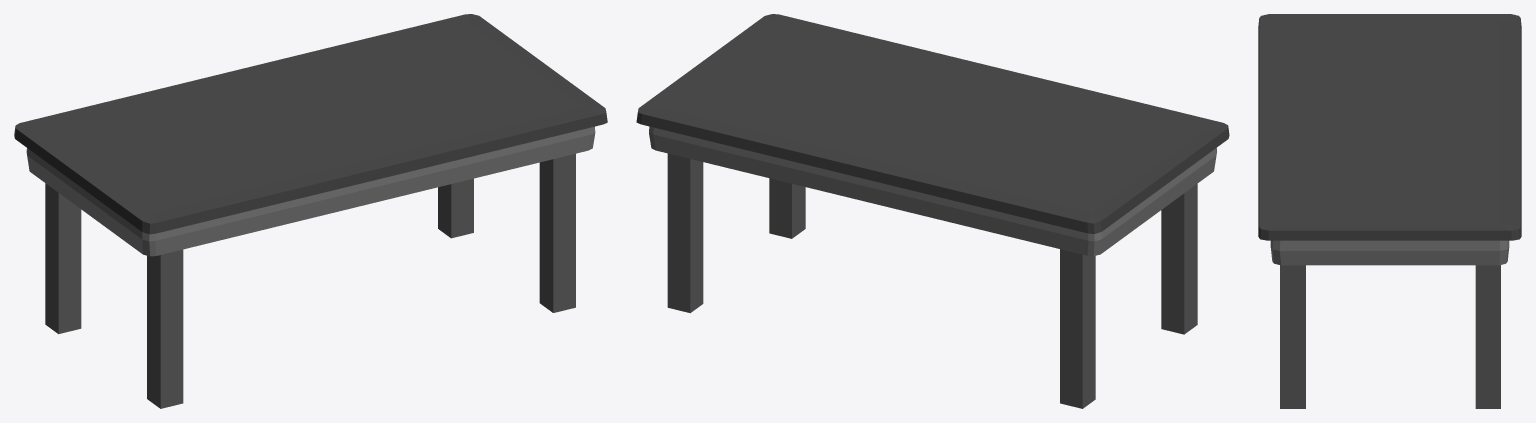
The model's file is DeliberationTableModel.fbx.
The picture shows the model from 3 angles, left to right: view 1: azimuth 30°, elevation 25°; view 2: azimuth 150°, elevation 25°; view 3: azimuth 270°, elevation 25°; orthographic projection. The views are drawn at different scales.
Visible parts, largest first — view 1: DeliberationTableModel; view 2: DeliberationTableModel; view 3: DeliberationTableModel.
Part boxes in pixels (box(x1,y1,x2,y2)): DeliberationTableModel: box(14, 14, 607, 408); DeliberationTableModel: box(636, 14, 1229, 408); DeliberationTableModel: box(1258, 14, 1521, 408).
Size of the model in its own units: 283 by 115 by 145.
